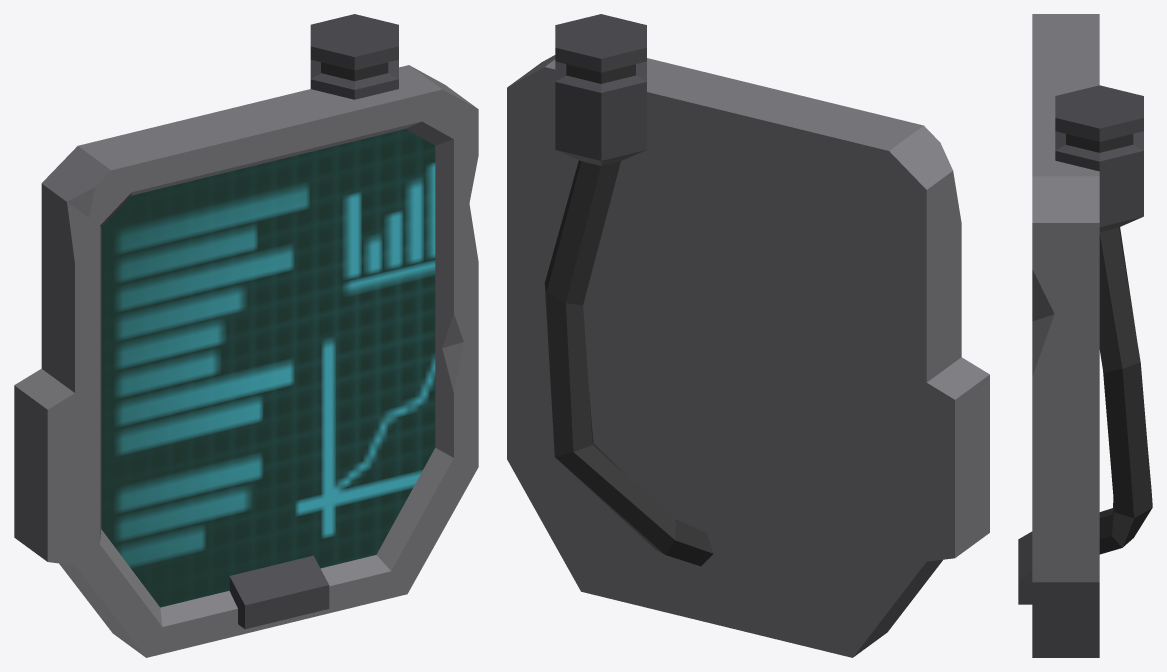
Rendered from SM_Prop_Screen_Small_01.glb.
The picture shows the model from 3 angles, left to right: view 1: azimuth 30°, elevation 25°; view 2: azimuth 150°, elevation 25°; view 3: azimuth 270°, elevation 25°; orthographic projection. The views are drawn at different scales.
Parts seen in each view (by area): view 1: SM_Prop_Screen_Small_01; view 2: SM_Prop_Screen_Small_01; view 3: SM_Prop_Screen_Small_01.
Part boxes in pixels (bbox=[...]): SM_Prop_Screen_Small_01: bbox=[14, 14, 478, 657]; SM_Prop_Screen_Small_01: bbox=[507, 14, 989, 657]; SM_Prop_Screen_Small_01: bbox=[1018, 14, 1152, 657].
Size of the model in its own units: 0.4808 by 0.5743 by 0.1294.
Materials: 1 (1 with a texture image).
